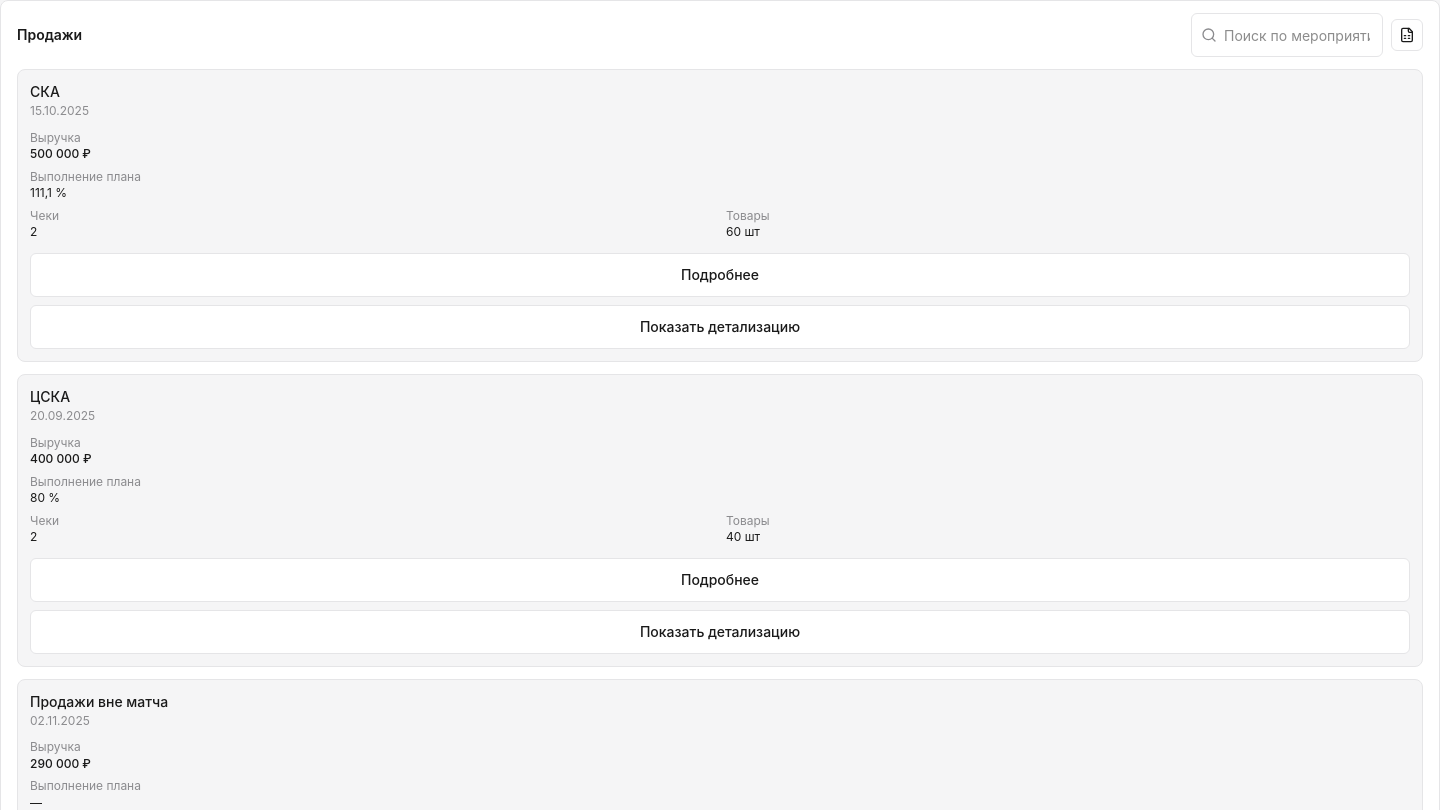
Test case: MerchMobileSalesCards parallel structure › renders match cards collapsed, then three sibling sections
Expected: the heading "Продажи" is shown, [17,25,82,45]
Expected: the text "Топ-5 товаров" is not shown
Click the button "Показать детализацию" below "60" at (720, 327), box [30,305,1410,349]
(page scrolled)
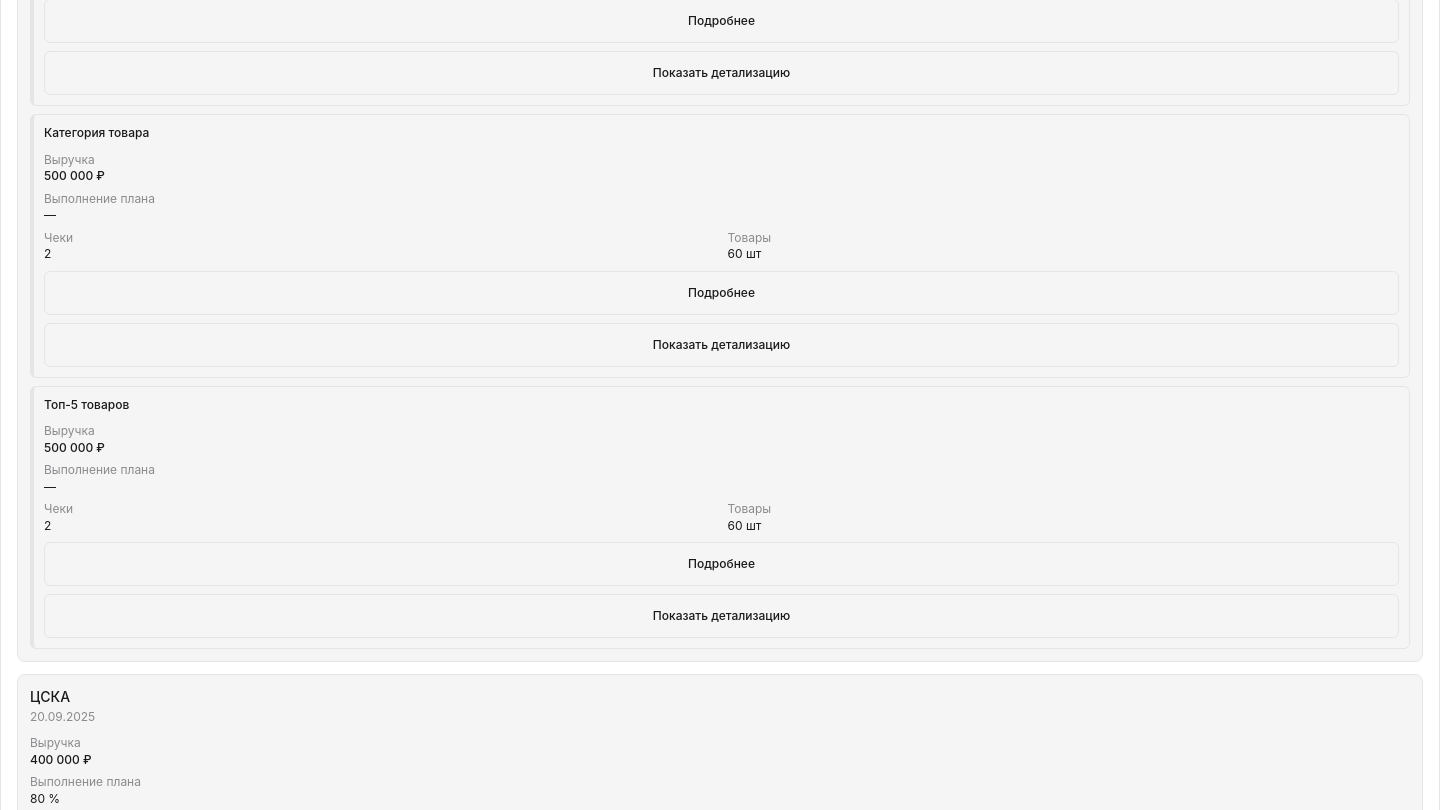
Now the text "Категория товара" is shown, box [44,125,149,140]
Now the text "Топ-5 товаров" is shown, box [44,397,129,412]
